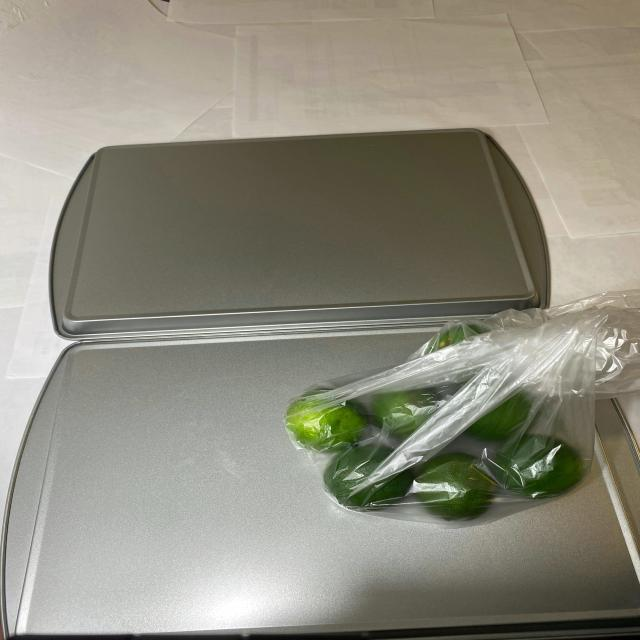lemon: (282, 327, 594, 508)
